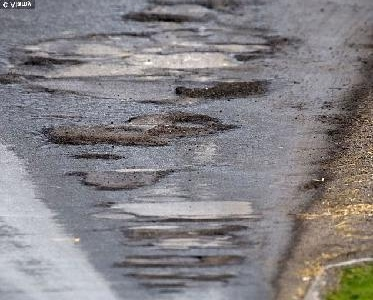pothole: (40, 109, 242, 148), (61, 164, 176, 193), (119, 222, 249, 242), (110, 252, 246, 271), (171, 77, 274, 101), (121, 269, 233, 282), (69, 152, 127, 162)
